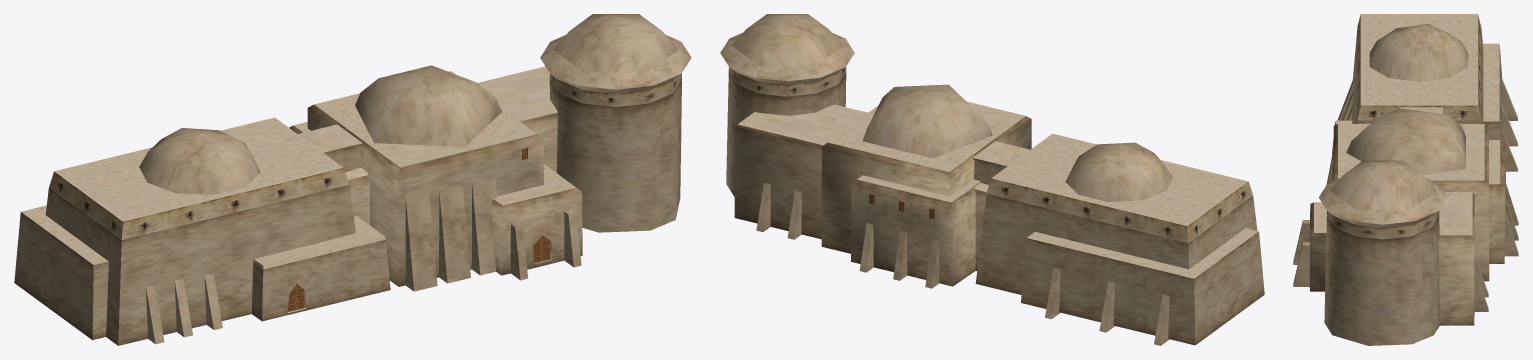
File: thm_tato_block_bldg_64x32_s01_l2.fbx
3 views of the same model, side by side, from view 1: azimuth 30°, elevation 25°; view 2: azimuth 150°, elevation 25°; view 3: azimuth 270°, elevation 25° (orthographic). The views are drawn at different scales.
Visible parts, largest first — view 1: mesh_node; view 2: mesh_node; view 3: mesh_node.
Part boxes in pixels (x1,y1,x2,y2): mesh_node: (14,14,691,345); mesh_node: (720,14,1264,345); mesh_node: (1293,14,1518,345).
Bounding box in the file's own units: 67.95 × 20.62 × 26.2.
Materials: 1 (1 with a texture image).
